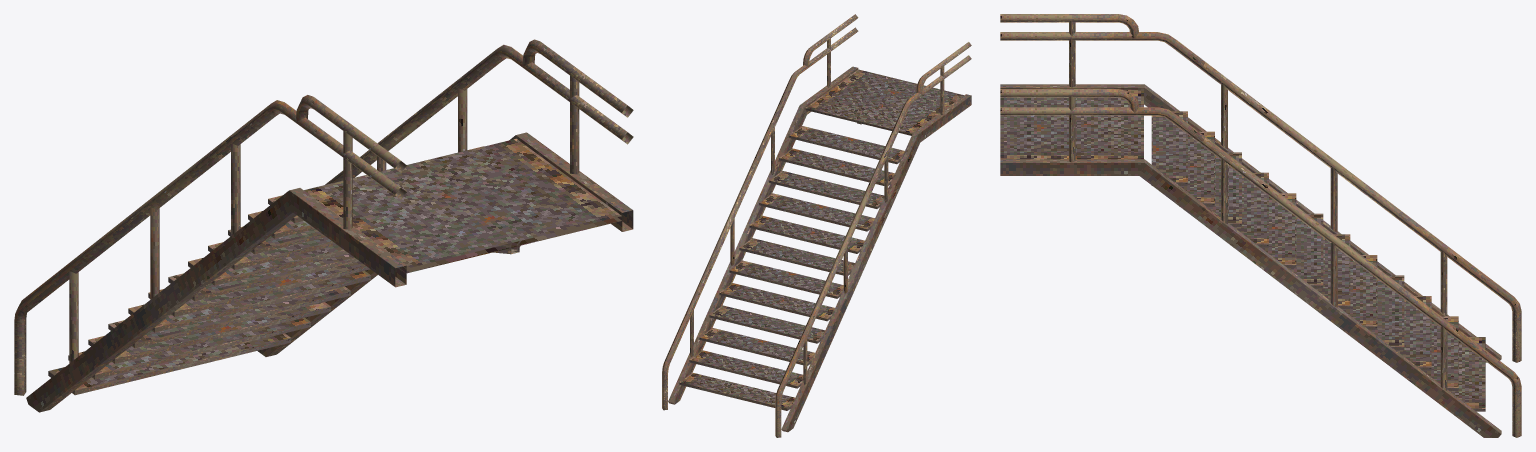
File: bridges_stairs_1.glb
3 renders of one model, left to right at view 1: azimuth 30°, elevation 25°; view 2: azimuth 150°, elevation 25°; view 3: azimuth 270°, elevation 25°, orthographic. The views are drawn at different scales.
Visible parts, largest first — view 1: Bridges_stairs_1; view 2: Bridges_stairs_1; view 3: Bridges_stairs_1.
Part boxes in pixels (box(x1,y1,x2,y2)): Bridges_stairs_1: box(14, 39, 633, 412); Bridges_stairs_1: box(662, 14, 971, 437); Bridges_stairs_1: box(1000, 14, 1521, 437).
Bounding box in the file's own units: 2.1 × 4.29 × 5.84.
1 material, 1 textured.
